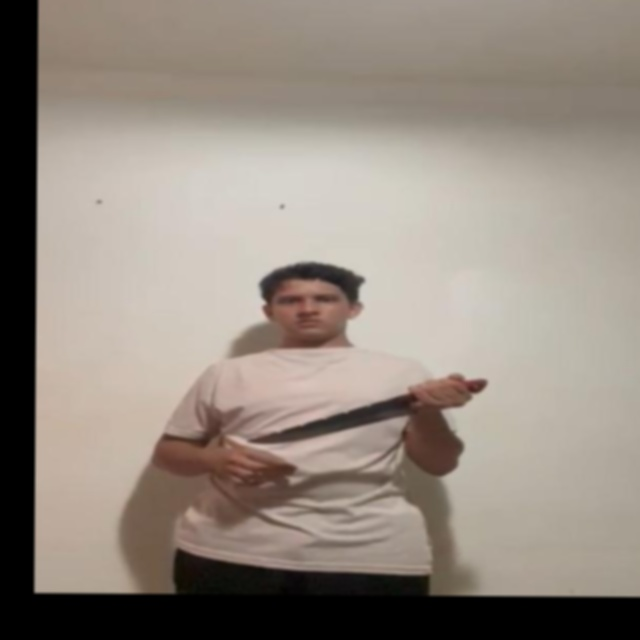Sharp-Object: (247, 394, 419, 444)
